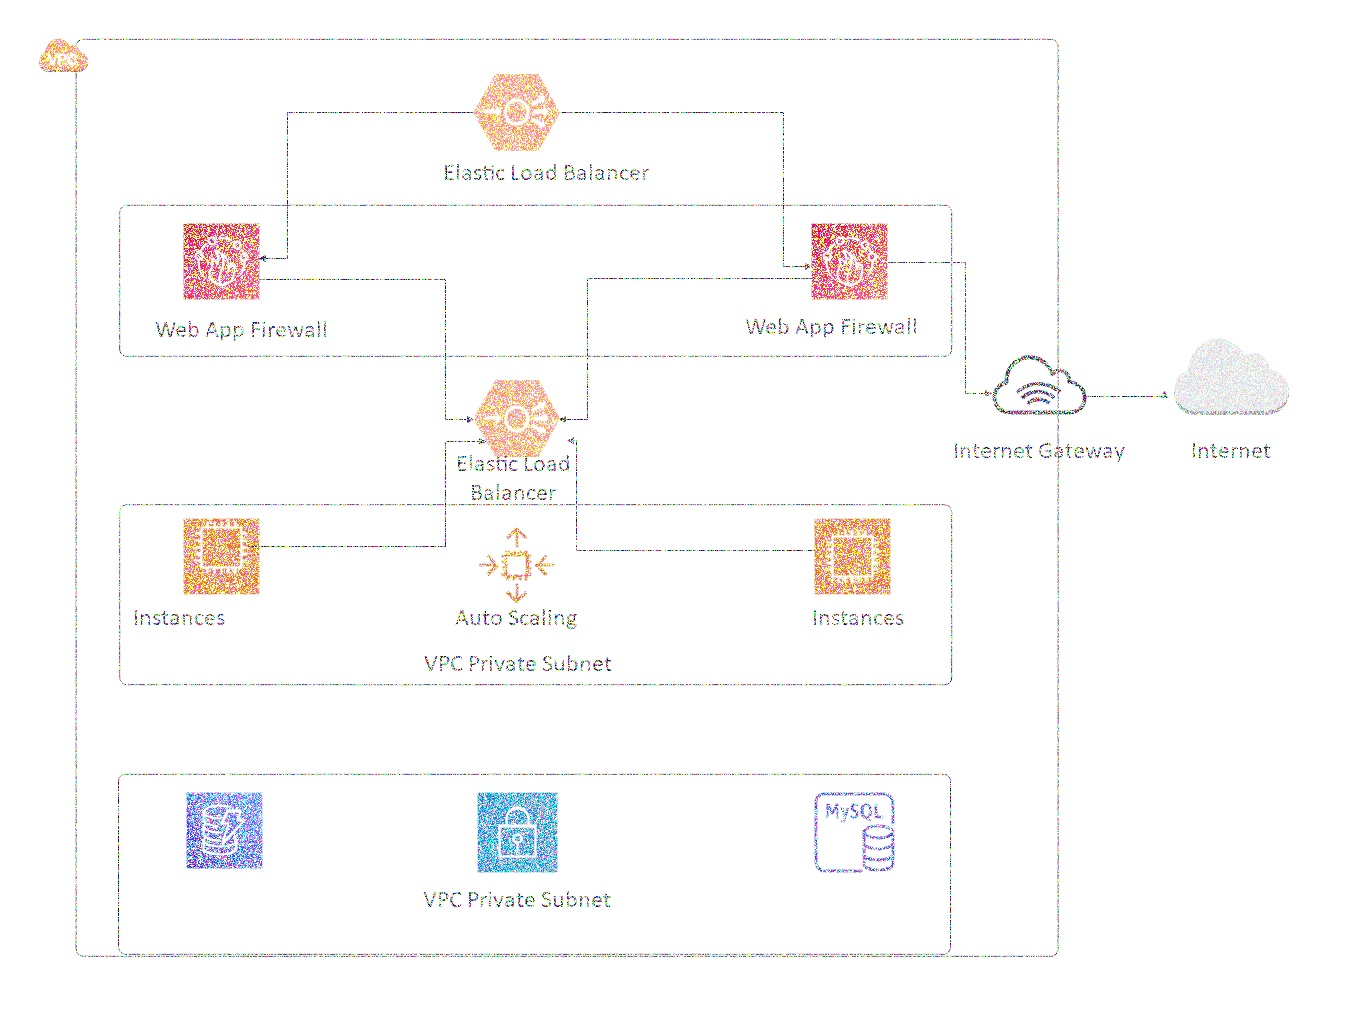Auto Scaling: (471, 517, 562, 607)
Dynamo DB: (182, 788, 269, 872)
EC2: (806, 509, 903, 604), (177, 511, 267, 602)
ELB: (473, 363, 560, 458), (475, 63, 562, 159)
Internet: (1173, 325, 1299, 423), (991, 347, 1090, 424)
Private Subnet: (477, 789, 559, 872)
RDS: (809, 784, 901, 877)
WAF: (181, 219, 263, 302), (809, 221, 892, 299)
